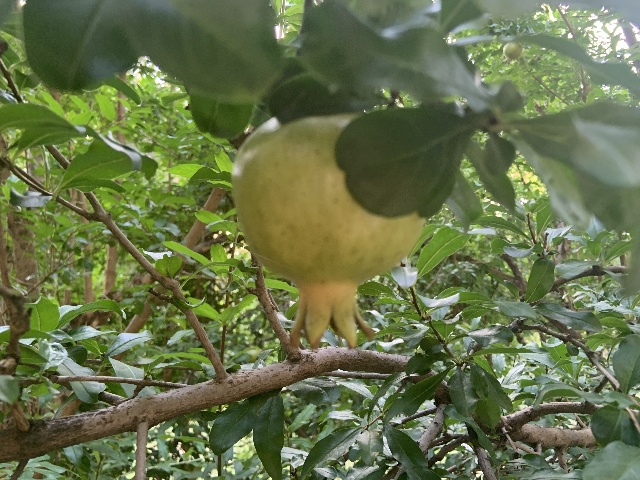mid-growth: (232, 114, 426, 352), (502, 42, 522, 65)
